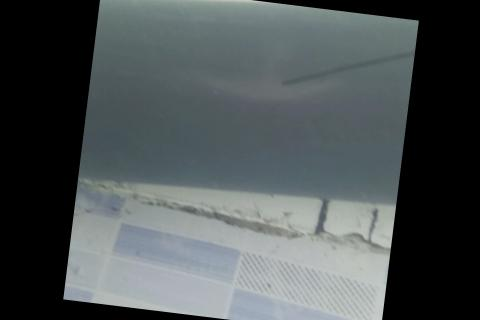keretakan: (281, 27, 416, 104)
